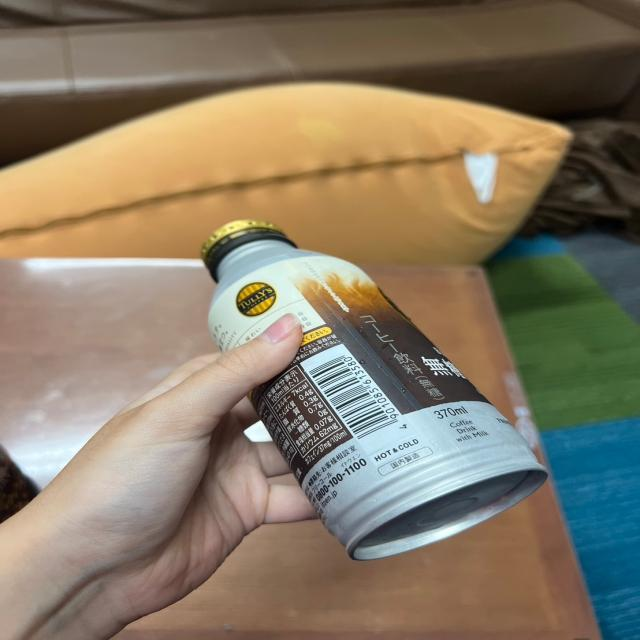coffee-latte: (199, 217, 540, 562)
